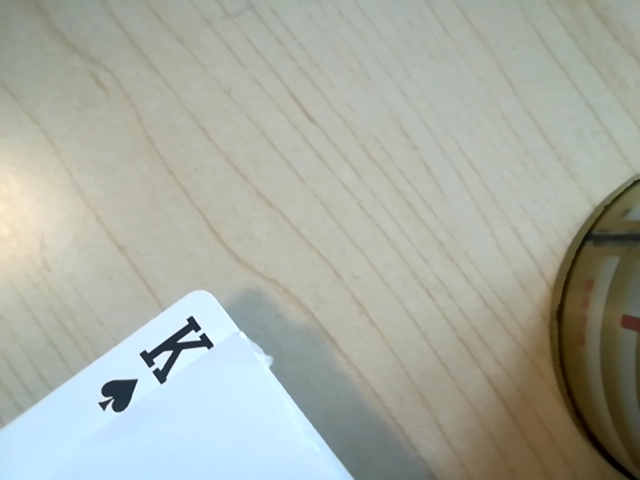ht k: (79, 313, 229, 418)
